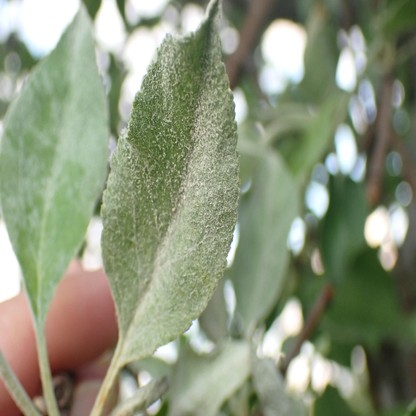powdery_mildew: (100, 2, 239, 362), (1, 2, 109, 323)
